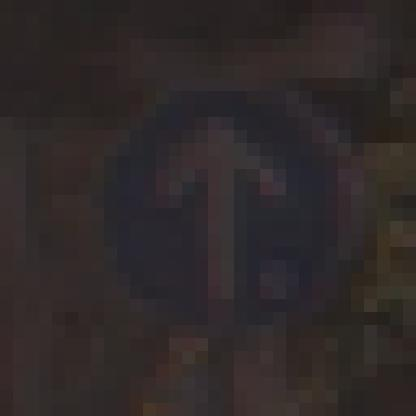AheadOnly: (79, 66, 352, 352)
